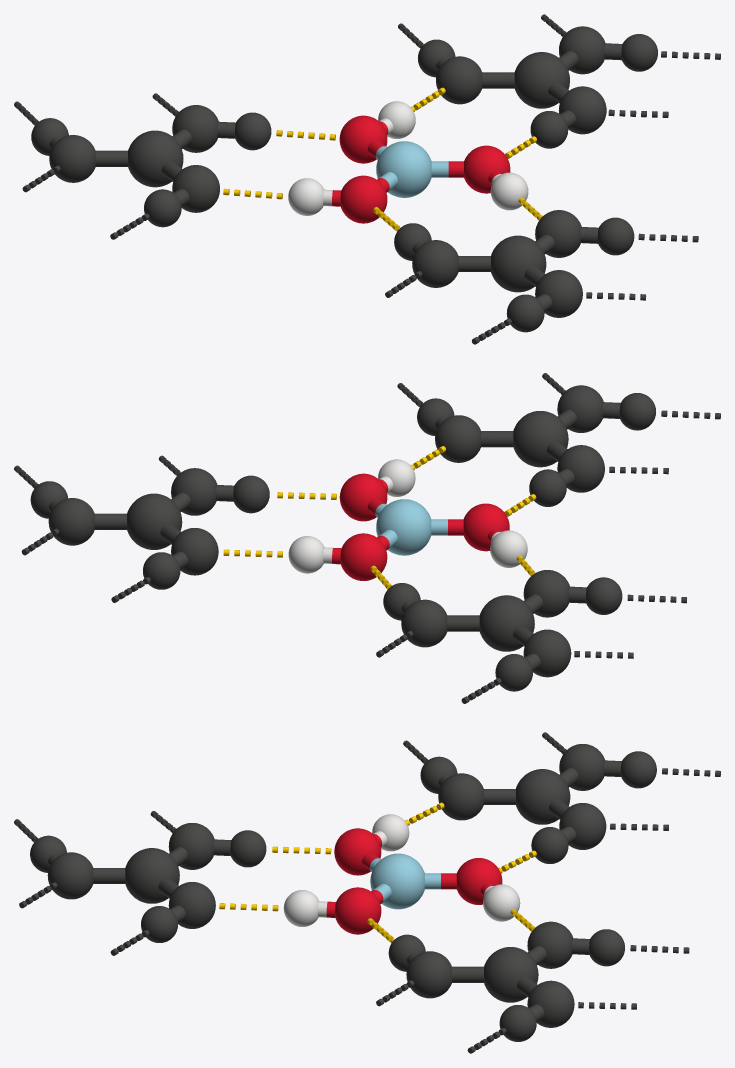
Rendered from jingti3.FBX.
3 views of the same model, one above another, from view 1: azimuth 30°, elevation 25°; view 2: azimuth 150°, elevation 25°; view 3: azimuth 270°, elevation 25° (orthographic).
Visible parts, largest first — view 1: F3; view 2: F3; view 3: F3.
Part boxes in pixels (left/top/right/bottom): F3: left=14, top=14, right=720, bottom=344; F3: left=14, top=373, right=720, bottom=703; F3: left=14, top=732, right=720, bottom=1053.
Bounding box in the file's own units: 121 × 9 × 114.
